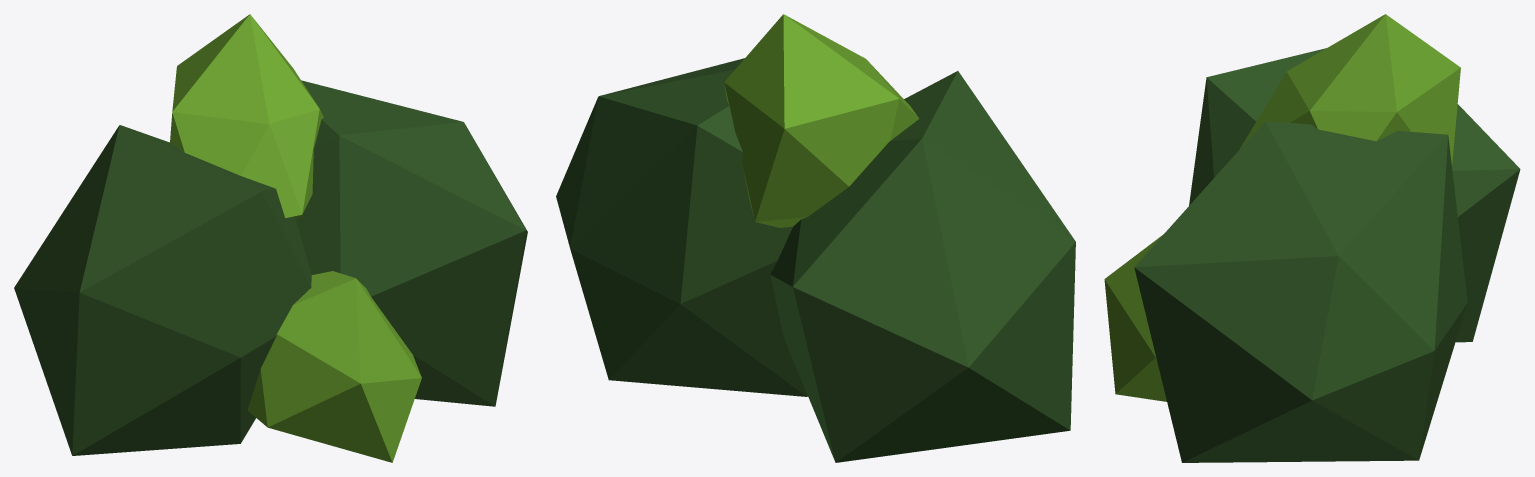
File: Bush8.fbx
3 renders of one model, left to right at view 1: azimuth 30°, elevation 25°; view 2: azimuth 150°, elevation 25°; view 3: azimuth 270°, elevation 25°, orthographic. The views are drawn at different scales.
Parts seen in each view (by area): view 1: Cube.010; view 2: Cube.010; view 3: Cube.010.
Part boxes in pixels (<box>): Cube.010: <box>14,14,527,462</box>; Cube.010: <box>556,14,1075,462</box>; Cube.010: <box>1104,14,1520,462</box>.
Bounding box in the file's own units: 125 × 92.07 × 92.93.
